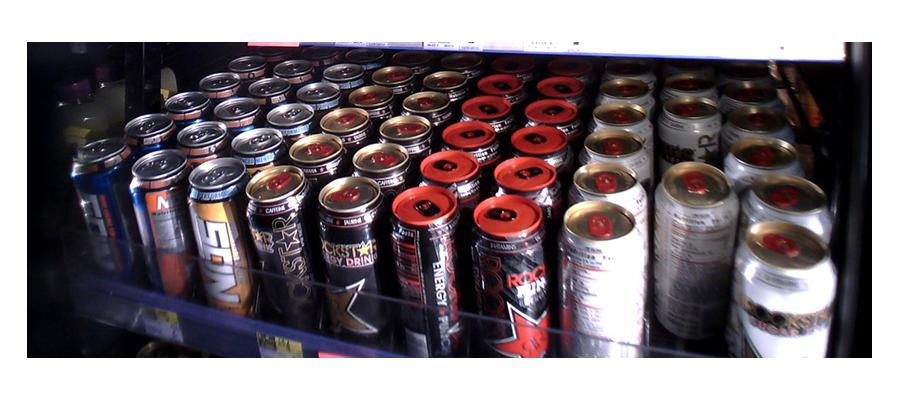bottle: (734, 190, 831, 369), (559, 196, 647, 359), (658, 162, 735, 340), (394, 181, 466, 349), (474, 195, 548, 357), (320, 178, 384, 336), (249, 170, 314, 323), (191, 163, 250, 312), (71, 141, 131, 283), (133, 155, 190, 299)
